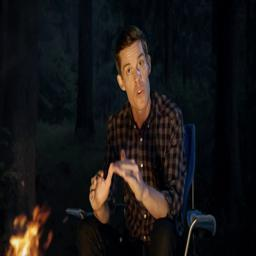fire: (9, 205, 48, 256)
